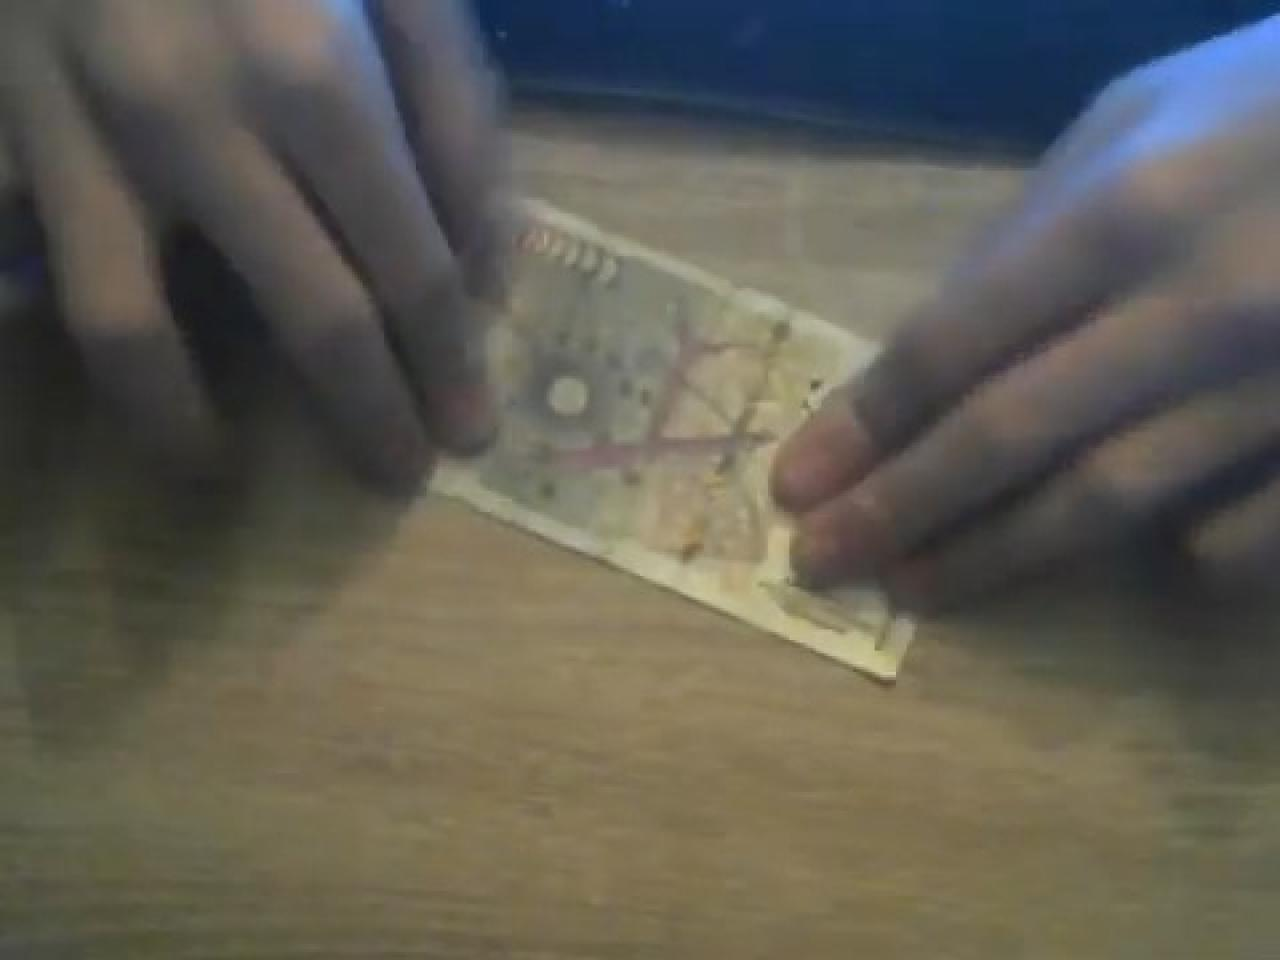10leva: (434, 200, 912, 683)
